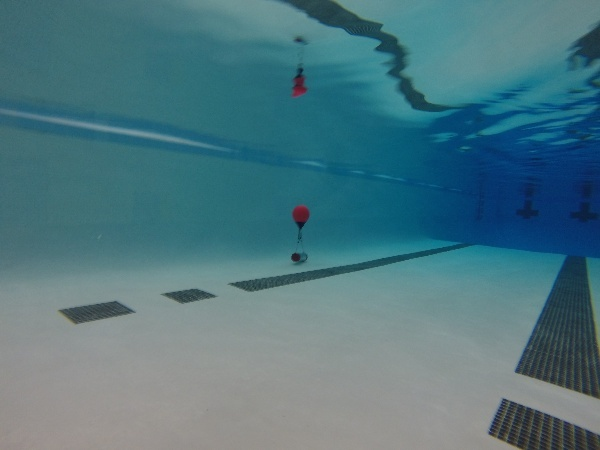buoy_red: (290, 202, 310, 231)
